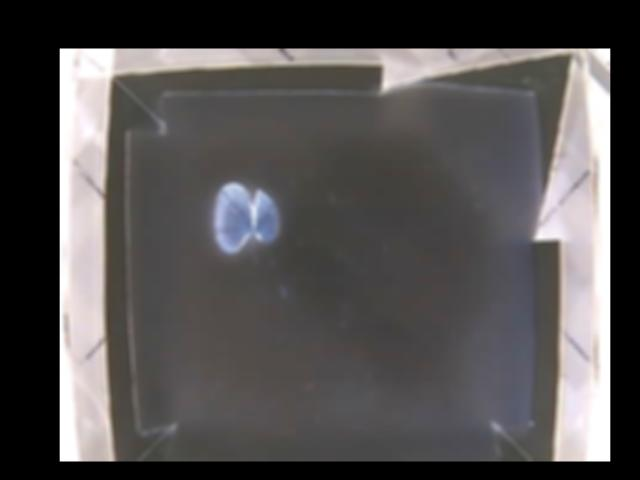Shell: (212, 182, 280, 254)
